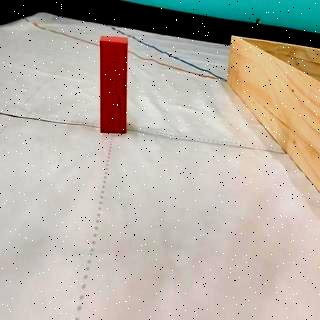redbox: (100, 35, 126, 133)
